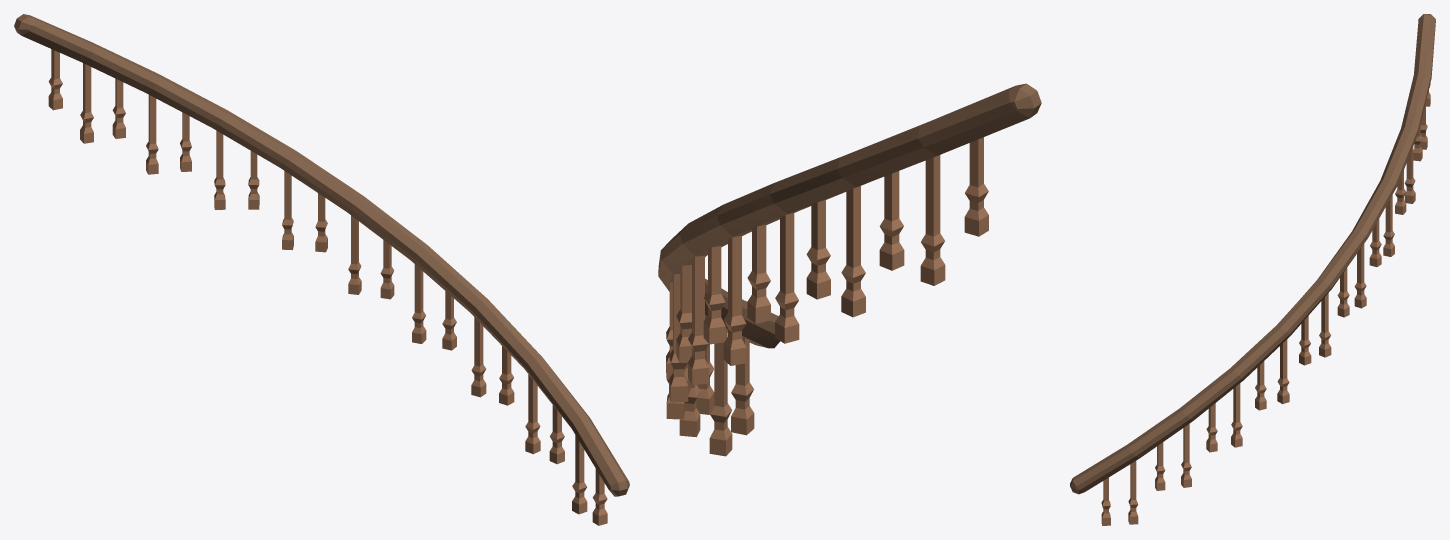
The model's file is Structure_Stairs_Railing_Rising_Curved_Outer.obj.
The picture shows the model from 3 angles, left to right: view 1: azimuth 30°, elevation 25°; view 2: azimuth 150°, elevation 25°; view 3: azimuth 270°, elevation 25°; orthographic projection. The views are drawn at different scales.
Visible parts, largest first — view 1: object1; view 2: object1; view 3: object1.
Boxes of the visible parts, x1,y1,x2,y2 form: object1: (14, 14, 629, 525); object1: (658, 83, 1041, 456); object1: (1070, 14, 1435, 525).
Bounding box in the file's own units: 2.1 × 2.3 × 2.1.
